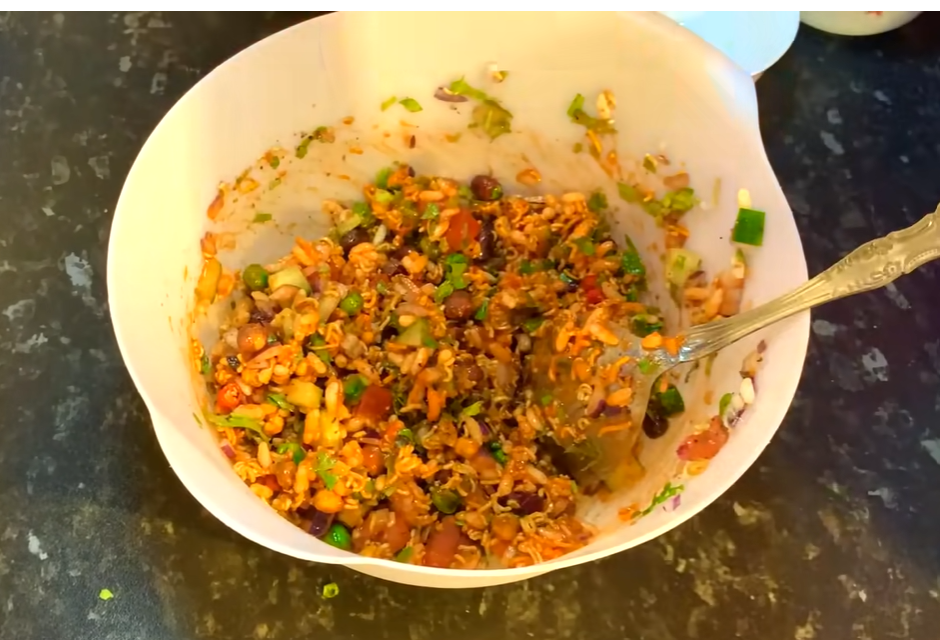chatpate: (209, 131, 661, 489)
